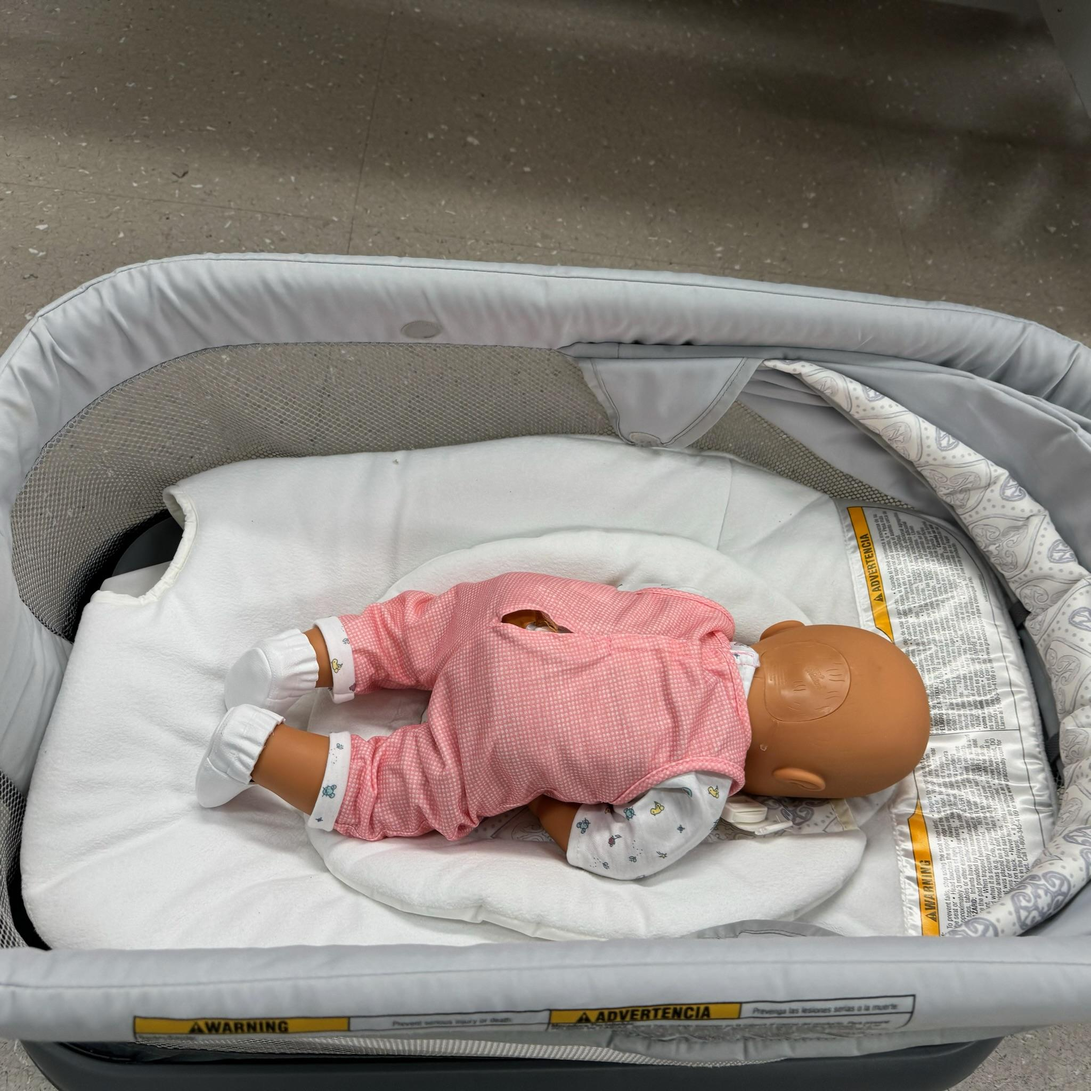baby: (210, 559, 965, 887)
